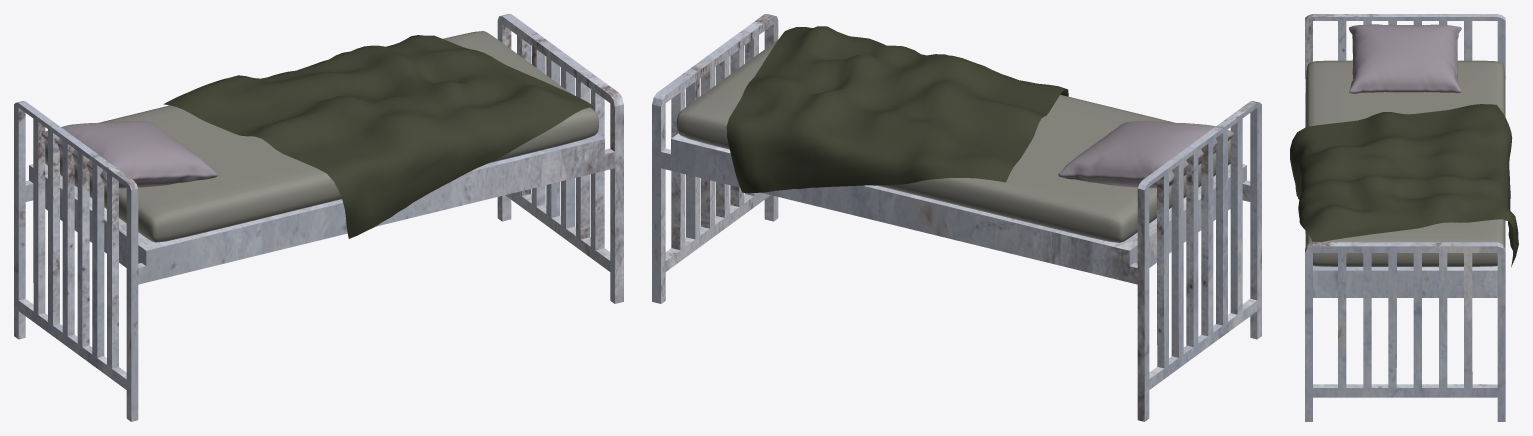
3 renders of one model, left to right at view 1: azimuth 30°, elevation 25°; view 2: azimuth 150°, elevation 25°; view 3: azimuth 270°, elevation 25°, orthographic. The views are drawn at different scales.
Parts seen in each view (by area): view 1: Soporte_0, Sabana_3, object 2, Cube.001_2; view 2: Soporte_0, Sabana_3, object 2, Cube.001_2; view 3: Sabana_3, Soporte_0, object 2, Cube.001_2.
Part boxes in pixels (x1,y1,x2,y2): Soporte_0: [14, 14, 623, 421]; Sabana_3: [163, 35, 594, 238]; object 2: [45, 31, 598, 242]; Cube.001_2: [41, 121, 217, 188]; Soporte_0: [652, 14, 1261, 421]; Sabana_3: [726, 26, 1068, 193]; object 2: [676, 39, 1230, 242]; Cube.001_2: [1058, 121, 1234, 188]; Sabana_3: [1290, 104, 1518, 267]; Soporte_0: [1305, 14, 1505, 421]; object 2: [1305, 60, 1505, 266]; Cube.001_2: [1349, 24, 1461, 93].
Bounding box in the file's own units: 4.85 × 2.22 × 2.28.
Materials: 4 (1 with a texture image).
